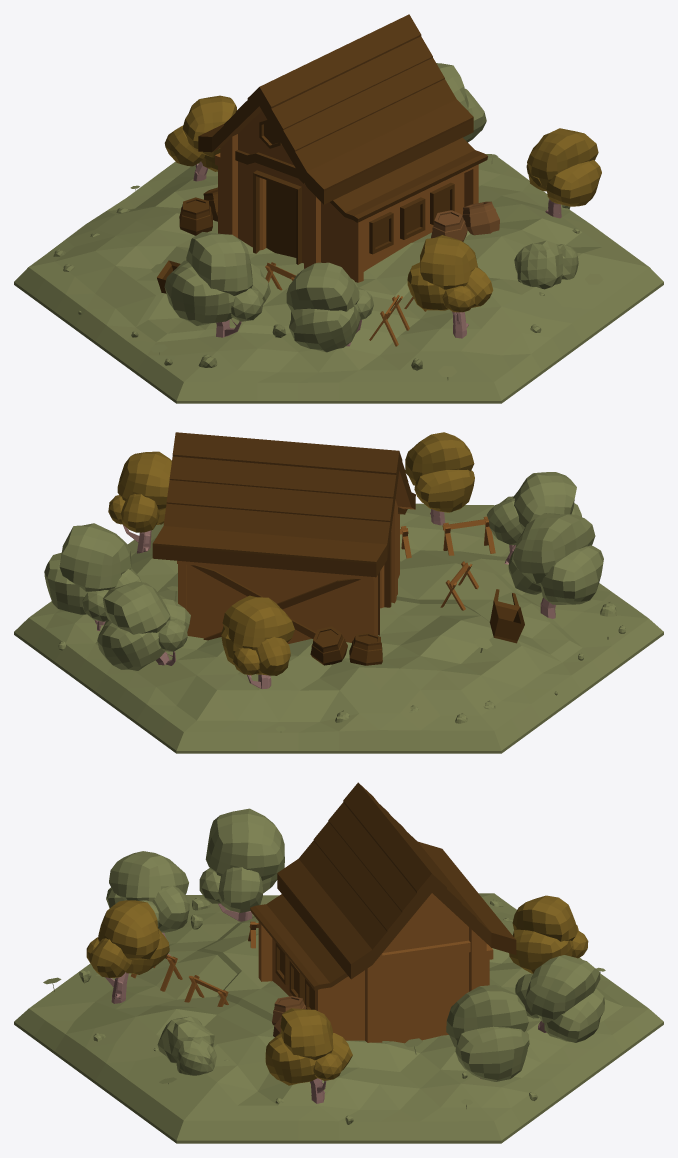
File: workers_hut.glb
3 views of the same model, one above another, from view 1: azimuth 30°, elevation 25°; view 2: azimuth 150°, elevation 25°; view 3: azimuth 270°, elevation 25° (orthographic).
Parts seen in each view (by area): view 1: land, building, big_details, small_details; view 2: land, building, big_details, small_details; view 3: land, big_details, building, small_details.
Part boxes in pixels (x1,y1,x2,y2): land: (14,154,663,403); building: (198,14,487,282); big_details: (157,63,601,352); small_details: (53,154,603,380); land: (14,503,663,753); building: (152,432,415,643); big_details: (44,432,603,689); small_details: (58,586,625,731); land: (14,893,663,1143); big_details: (86,808,604,1103); building: (250,782,516,1043); small_details: (43,897,605,1124).
Size of the model in its own units: 1.73 by 0.7375 by 2.
